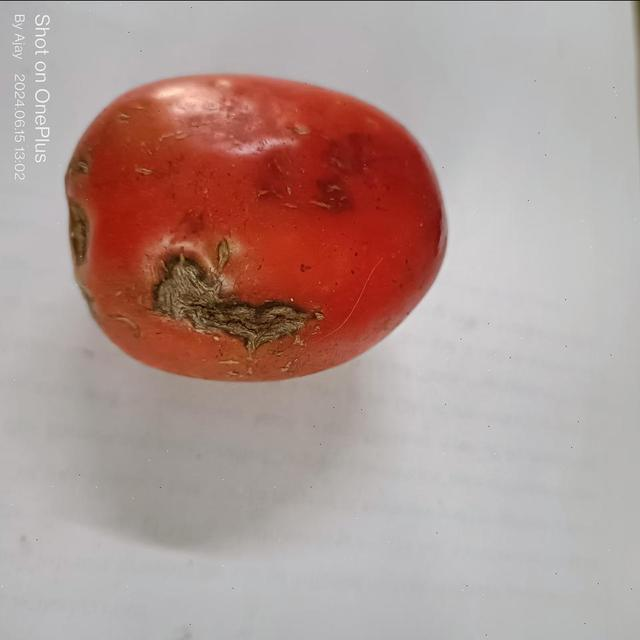Bacterial Spot Fruit: (12, 15, 164, 214)
